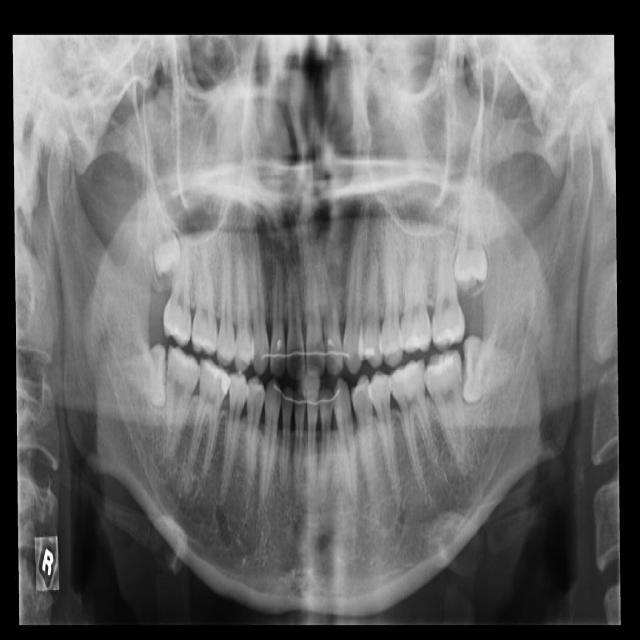3M ESPE Implant: (139, 146, 184, 278)
52: (185, 353, 238, 407), (421, 349, 465, 404), (386, 357, 430, 408), (396, 308, 435, 358), (431, 303, 466, 354), (355, 322, 383, 369), (320, 326, 346, 376), (269, 326, 287, 377)
BioHorizons Implant: (431, 196, 470, 355)
BioLife Implant: (453, 175, 491, 293)
Biomet 3i Implant: (437, 323, 523, 407)
Blue Sky Bio Implant: (421, 348, 470, 473)
Caries: (163, 194, 192, 349)
Implant: (161, 343, 202, 462)
Keystone Dental Implant: (109, 343, 168, 409)
